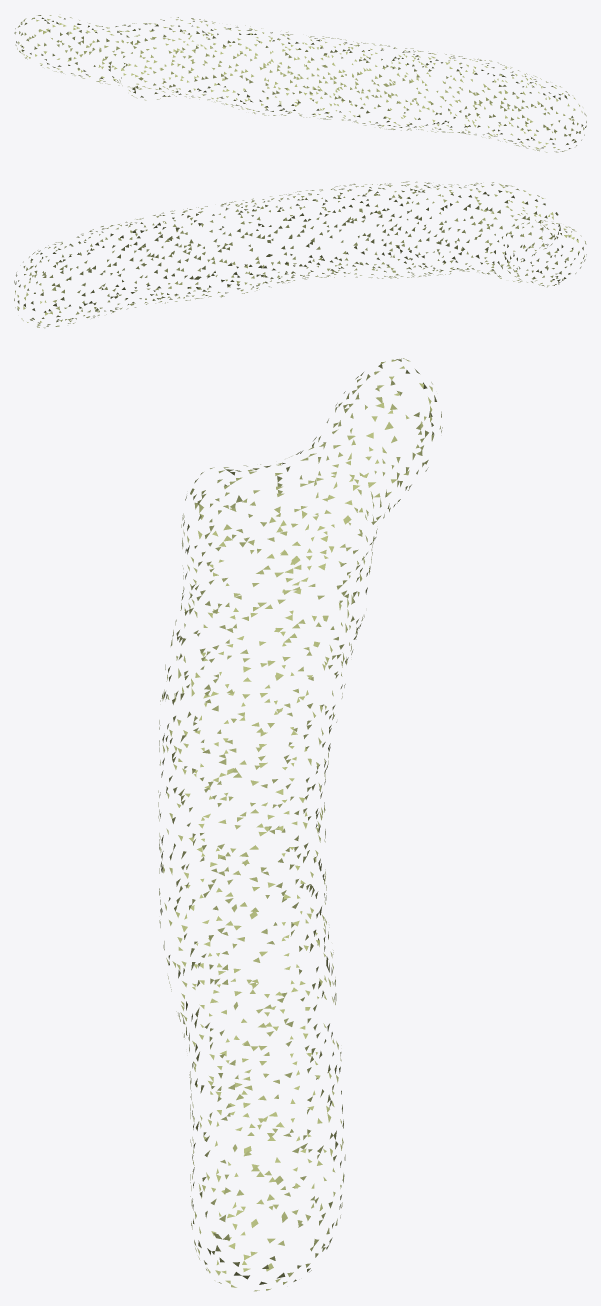
File: morph_010.glb
The picture shows the model from 3 angles, top to bottom: view 1: azimuth 30°, elevation 25°; view 2: azimuth 150°, elevation 25°; view 3: azimuth 270°, elevation 25°; orthographic projection. The views are drawn at different scales.
Bounding box in the file's own units: 110 × 44.89 × 25.55.
